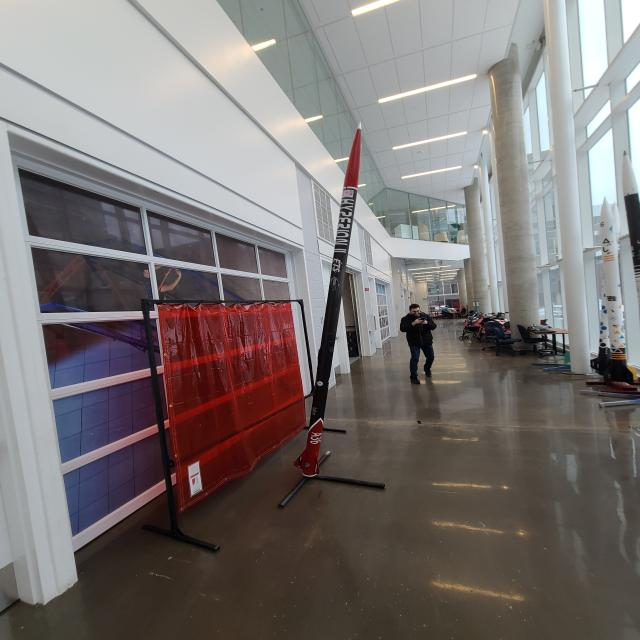Rocket: (294, 120, 362, 476)
